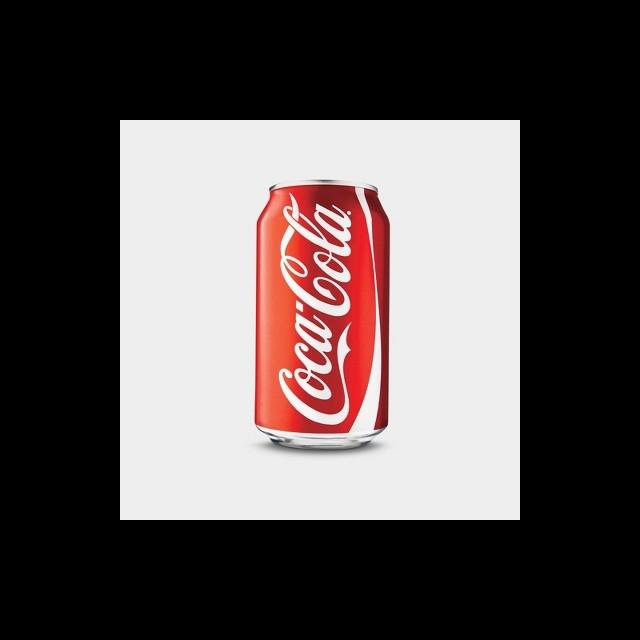metal: (245, 166, 399, 460)
